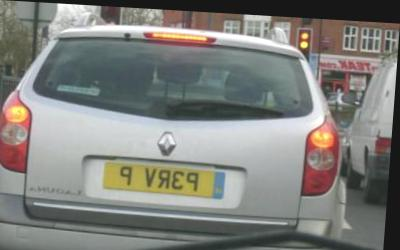License_Plate: (105, 165, 227, 196)
